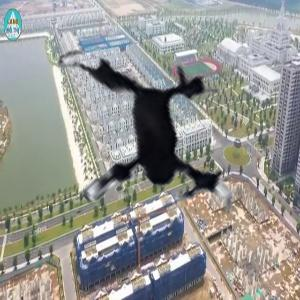drone: (8, 15, 267, 274)
